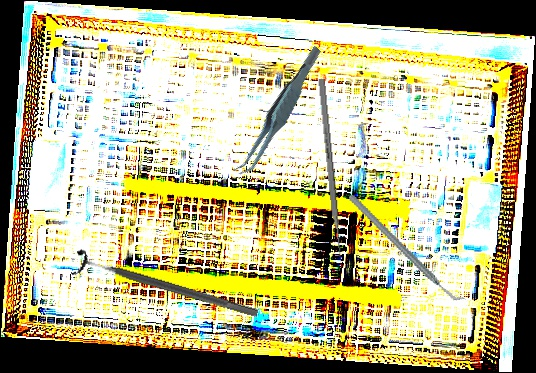Chopper: (347, 170, 467, 327)
Fixation Ring: (70, 247, 262, 328)
Pusher: (317, 78, 345, 265)
Tissue Forceps: (213, 44, 345, 180)
